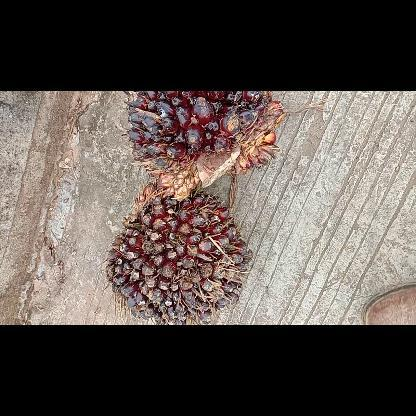TBS mentah: (101, 182, 255, 324), (120, 90, 288, 202)
